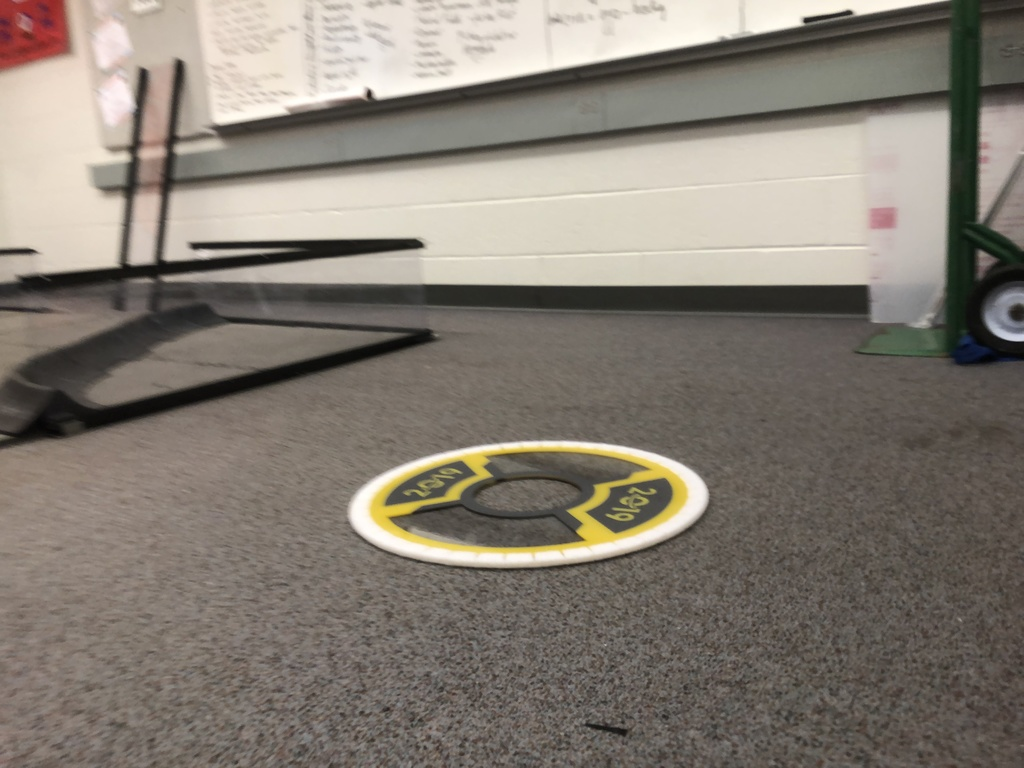hatch_panel: (332, 424, 752, 581)
